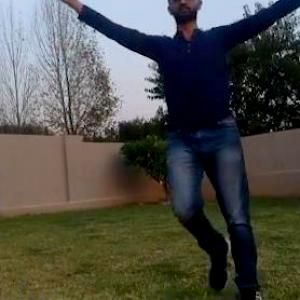takeoff: (63, 0, 299, 294)
